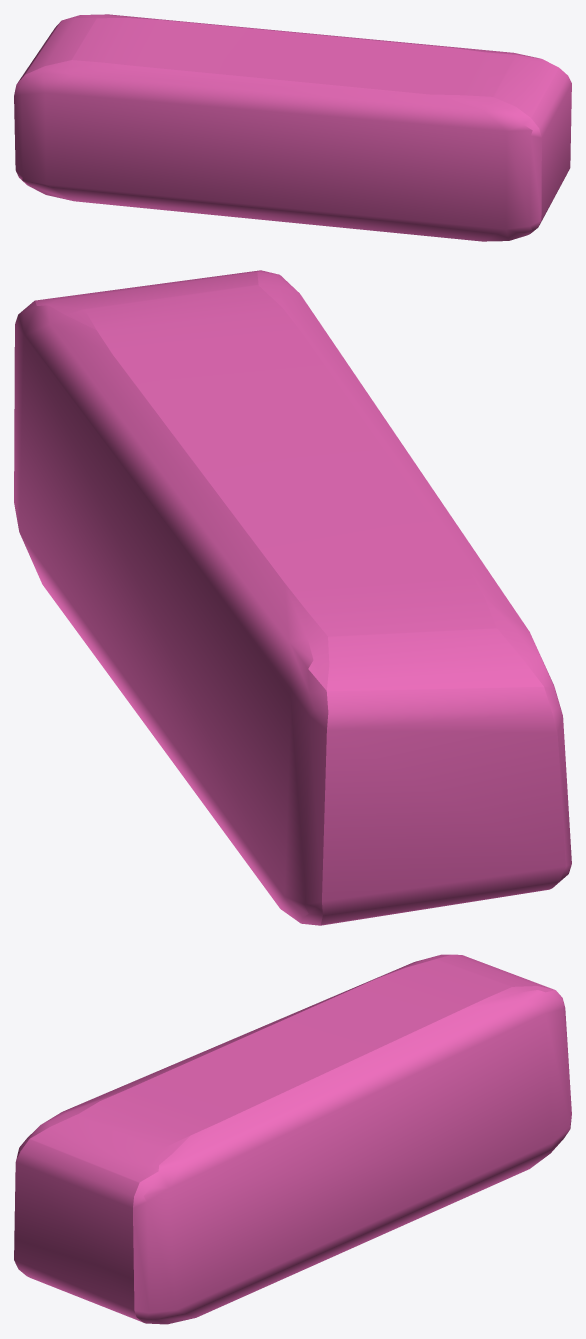
Rendered from kue.fbx.
The picture shows the model from 3 angles, top to bottom: view 1: azimuth 30°, elevation 25°; view 2: azimuth 150°, elevation 25°; view 3: azimuth 270°, elevation 25°; orthographic projection. The views are drawn at different scales.
Visible parts, largest first — view 1: Kue Sengkulun.001; view 2: Kue Sengkulun.001; view 3: Kue Sengkulun.001.
Part boxes in pixels (<box>): Kue Sengkulun.001: <box>14,14,571,241</box>; Kue Sengkulun.001: <box>14,270,571,925</box>; Kue Sengkulun.001: <box>14,954,571,1324</box>.
Size of the model in its own units: 98.68 by 33.83 by 93.6.
